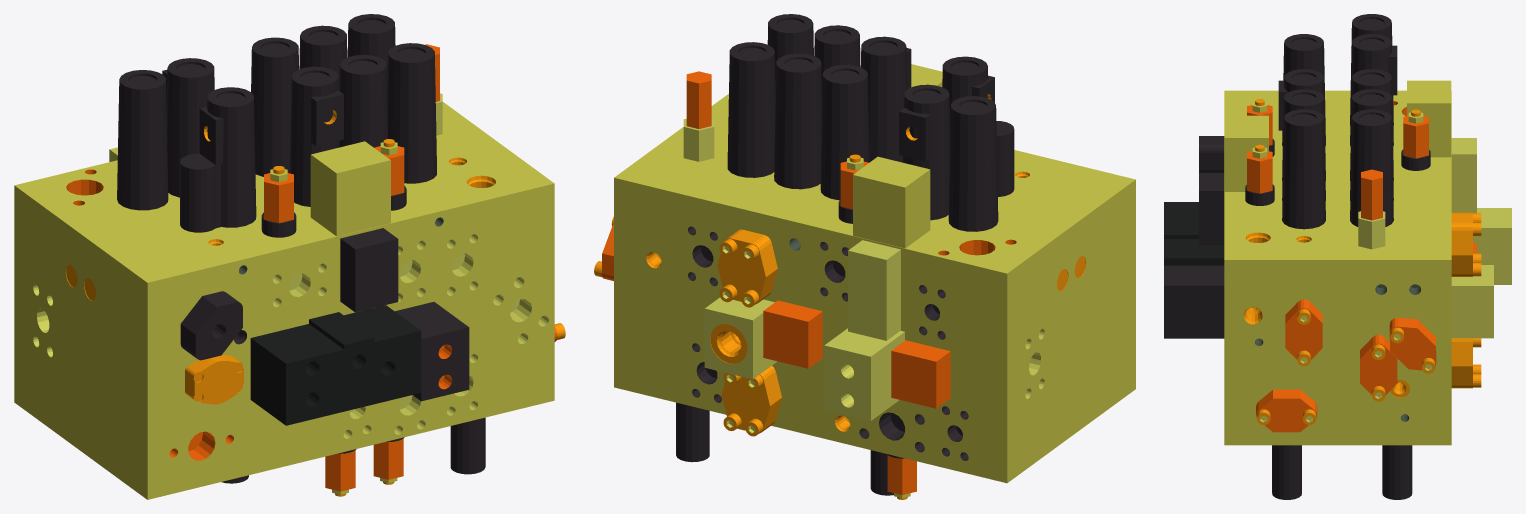
The model's file is control.glb.
3 views of the same model, side by side, from view 1: azimuth 30°, elevation 25°; view 2: azimuth 150°, elevation 25°; view 3: azimuth 270°, elevation 25° (orthographic). The views are drawn at different scales.
Visible parts, largest first — view 1: YA00000734_001/4625137_022 [4625137_022]/dum1033545_010 [dum (×4), YA00000734_001/4625137_022 [4625137_022]/dum1110515_003 [dum, YA00000734_001/4625137_022 [4625137_022]/dum1075004_001 [dum, YA00000734_001/4625137_022 [4625137_022]/dum1012543_001 [dum, YA00000734_001/4625137_022 [4625137_022]/dum1075003_001 [dum, YA00000734_001/4625137_022 [4625137_022]/dum1075006_001 [dum, YA00000734_001/4625137_022 [4625137_022]/dum1075000_001 [dum, YA00000734_001/4625137_022 [4625137_022]/dum1012541_001 [dum, YA00000734_001/4625137_022 [4625137_022]/dum1012549_001 [dum (×4), YA00000734_001/4625137_022 [4625137_022]/dum1075005_001 [dum, YA00000734_001/4625137_022 [4625137_022]/dum1012551_003 [dum, YA00000734_001/4625137_022 [4625137_022]/dum1075002_001 [dum (+8 smaller); view 2: YA00000734_001/4625137_022 [4625137_022]/dum1033545_010 [dum (×3), YA00000734_001/4625137_022 [4625137_022]/dum1012529_003 [dum, YA00000734_001/4625137_022 [4625137_022]/dum1012543_001 [dum, YA00000734_001/4625137_022 [4625137_022]/dum1075004_001 [dum, YA00000734_001/4625137_022 [4625137_022]/dum1075008_001 [dum, YA00000734_001/4625137_022 [4625137_022]/dum1075007_001 [dum, YA00000734_001/4625137_022 [4625137_022]/dum1012530_003 [dum, YA00000734_001/4625137_022 [4625137_022]/dum1075006_001 [dum, YA00000734_001/4625137_022 [4625137_022]/dum1033544_001 [dum (×2), YA00000734_001/4625137_022 [4625137_022]/dum1012542_001 [dum, YA00000734_001/4625137_022 [4625137_022]/dum1051045_002 [dum (×2), YA00000734_001/4625137_022 [4625137_022]/dum1075001_001 [dum (+10 smaller); view 3: YA00000734_001/4625137_022 [4625137_022]/dum1033545_010 [dum (×2), YA00000734_001/4625137_022 [4625137_022]/dum1012555_002 [dum (×3), YA00000734_001/4625137_022 [4625137_022]/dum1012543_001 [dum, YA00000734_001/4625137_022 [4625137_022]/dum1075003_001 [dum, YA00000734_001/4625137_022 [4625137_022]/dum1012551_003 [dum, YA00000734_001/4625137_022 [4625137_022]/dum1075008_001 [dum, YA00000734_001/4625137_022 [4625137_022]/dum1051045_002 [dum, YA00000734_001/4625137_022 [4625137_022]/dum1012549_001 [dum (×4), YA00000734_001/4625137_022 [4625137_022]/dum1110515_003 [dum, YA00000734_001/4625137_022 [4625137_022]/dum1033544_001 [dum (×2), YA00000734_001/4625137_022 [4625137_022]/dum1012530_003 [dum, YA00000734_001/4625137_022 [4625137_022]/dum1012542_001 [dum (+13 smaller).
Boxes of the visible parts, x1,y1,x2,y2 form: YA00000734_001/4625137_022 [4625137_022]/dum1033545_010 [dum (×4): [14, 102, 554, 499]; YA00000734_001/4625137_022 [4625137_022]/dum1110515_003 [dum: [250, 305, 421, 425]; YA00000734_001/4625137_022 [4625137_022]/dum1075004_001 [dum: [117, 70, 168, 210]; YA00000734_001/4625137_022 [4625137_022]/dum1012543_001 [dum: [310, 141, 390, 236]; YA00000734_001/4625137_022 [4625137_022]/dum1075003_001 [dum: [387, 43, 436, 183]; YA00000734_001/4625137_022 [4625137_022]/dum1075006_001 [dum: [251, 37, 298, 176]; YA00000734_001/4625137_022 [4625137_022]/dum1075000_001 [dum: [207, 87, 256, 227]; YA00000734_001/4625137_022 [4625137_022]/dum1012541_001 [dum: [340, 228, 398, 312]; YA00000734_001/4625137_022 [4625137_022]/dum1012549_001 [dum (×4): [264, 146, 404, 491]; YA00000734_001/4625137_022 [4625137_022]/dum1075005_001 [dum: [166, 58, 214, 197]; YA00000734_001/4625137_022 [4625137_022]/dum1012551_003 [dum: [395, 302, 469, 401]; YA00000734_001/4625137_022 [4625137_022]/dum1075002_001 [dum: [339, 55, 387, 147]; YA00000734_001/4625137_022 [4625137_022]/dum1033545_010 [dum (×3): [614, 94, 1135, 483]; YA00000734_001/4625137_022 [4625137_022]/dum1012529_003 [dum: [763, 300, 950, 408]; YA00000734_001/4625137_022 [4625137_022]/dum1012543_001 [dum: [853, 64, 942, 248]; YA00000734_001/4625137_022 [4625137_022]/dum1075004_001 [dum: [948, 96, 998, 231]; YA00000734_001/4625137_022 [4625137_022]/dum1075008_001 [dum: [727, 42, 775, 177]; YA00000734_001/4625137_022 [4625137_022]/dum1075007_001 [dum: [774, 53, 822, 189]; YA00000734_001/4625137_022 [4625137_022]/dum1012530_003 [dum: [824, 328, 904, 420]; YA00000734_001/4625137_022 [4625137_022]/dum1075006_001 [dum: [820, 65, 869, 200]; YA00000734_001/4625137_022 [4625137_022]/dum1033544_001 [dum (×2): [717, 229, 781, 433]; YA00000734_001/4625137_022 [4625137_022]/dum1012542_001 [dum: [848, 240, 900, 340]; YA00000734_001/4625137_022 [4625137_022]/dum1051045_002 [dum (×2): [704, 297, 776, 379]; YA00000734_001/4625137_022 [4625137_022]/dum1075001_001 [dum: [861, 36, 907, 162]; YA00000734_001/4625137_022 [4625137_022]/dum1033545_010 [dum (×2): [1224, 90, 1451, 445]; YA00000734_001/4625137_022 [4625137_022]/dum1012555_002 [dum (×3): [1256, 299, 1436, 432]; YA00000734_001/4625137_022 [4625137_022]/dum1012543_001 [dum: [1224, 80, 1451, 191]; YA00000734_001/4625137_022 [4625137_022]/dum1075003_001 [dum: [1282, 109, 1325, 229]; YA00000734_001/4625137_022 [4625137_022]/dum1012551_003 [dum: [1164, 265, 1224, 338]; YA00000734_001/4625137_022 [4625137_022]/dum1075008_001 [dum: [1350, 109, 1393, 226]; YA00000734_001/4625137_022 [4625137_022]/dum1051045_002 [dum: [1451, 265, 1493, 338]; YA00000734_001/4625137_022 [4625137_022]/dum1012549_001 [dum (×4): [1245, 115, 1430, 205]; YA00000734_001/4625137_022 [4625137_022]/dum1110515_003 [dum: [1164, 202, 1224, 265]; YA00000734_001/4625137_022 [4625137_022]/dum1033544_001 [dum (×2): [1451, 212, 1472, 388]; YA00000734_001/4625137_022 [4625137_022]/dum1012530_003 [dum: [1473, 208, 1511, 284]; YA00000734_001/4625137_022 [4625137_022]/dum1012542_001 [dum: [1451, 138, 1476, 213].
Bounding box in the file's own units: 0.508 × 0.464 × 0.41.
